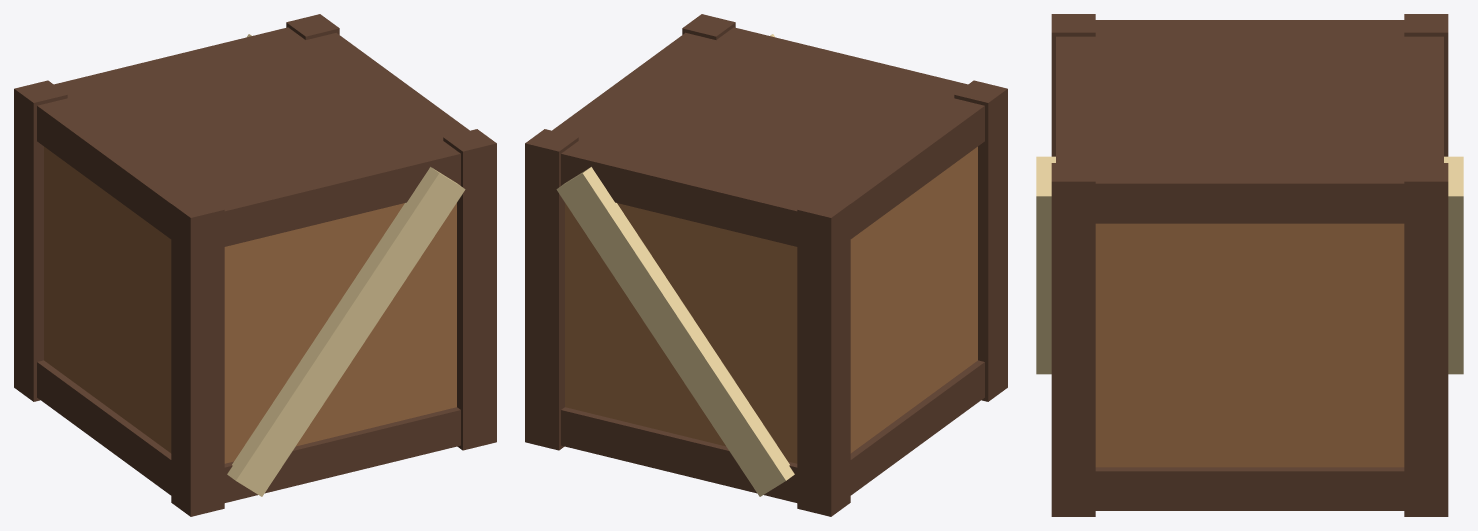
The model's file is wooden-crate.glb.
3 views of the same model, side by side, from view 1: azimuth 30°, elevation 25°; view 2: azimuth 150°, elevation 25°; view 3: azimuth 270°, elevation 25° (orthographic). The views are drawn at different scales.
Visible parts, largest first — view 1: body, rim-0.78, corner--0.4-0.4, diagonal-0.46, rim-0.06, corner-0.4-0.4, corner--0.4--0.4, corner-0.4--0.4; view 2: body, rim-0.78, corner--0.4--0.4, diagonal--0.46, rim-0.06, corner-0.4--0.4, corner--0.4-0.4, corner-0.4-0.4; view 3: body, rim-0.78, corner-0.4--0.4, corner-0.4-0.4, rim-0.06, diagonal--0.46, diagonal-0.46, corner--0.4--0.4, corner--0.4-0.4.
Boxes of the visible parts, left/top/right/bottom form: body: left=44, top=146, right=456, bottom=463; rim-0.78: left=37, top=27, right=469, bottom=246; corner--0.4-0.4: left=171, top=195, right=224, bottom=516; diagonal-0.46: left=227, top=167, right=465, bottom=496; rim-0.06: left=37, top=360, right=460, bottom=502; corner-0.4-0.4: left=443, top=129, right=496, bottom=450; corner--0.4--0.4: left=14, top=80, right=67, bottom=401; corner-0.4--0.4: left=286, top=14, right=339, bottom=39; body: left=565, top=146, right=977, bottom=463; rim-0.78: left=552, top=27, right=984, bottom=246; corner--0.4--0.4: left=797, top=195, right=850, bottom=516; diagonal--0.46: left=556, top=167, right=794, bottom=496; rim-0.06: left=561, top=360, right=984, bottom=502; corner-0.4--0.4: left=525, top=129, right=578, bottom=450; corner--0.4-0.4: left=954, top=80, right=1007, bottom=401; corner-0.4-0.4: left=682, top=14, right=735, bottom=39; body: left=1095, top=223, right=1404, bottom=467; rim-0.78: left=1056, top=20, right=1443, bottom=223; corner-0.4--0.4: left=1404, top=163, right=1448, bottom=516; corner-0.4-0.4: left=1051, top=163, right=1095, bottom=516; rim-0.06: left=1095, top=467, right=1404, bottom=510; diagonal--0.46: left=1444, top=156, right=1463, bottom=374; diagonal-0.46: left=1036, top=156, right=1055, bottom=374; corner--0.4--0.4: left=1404, top=14, right=1448, bottom=156; corner--0.4-0.4: left=1051, top=14, right=1095, bottom=156.
Bounding box in the file's own units: 0.9 × 0.84 × 0.97.
